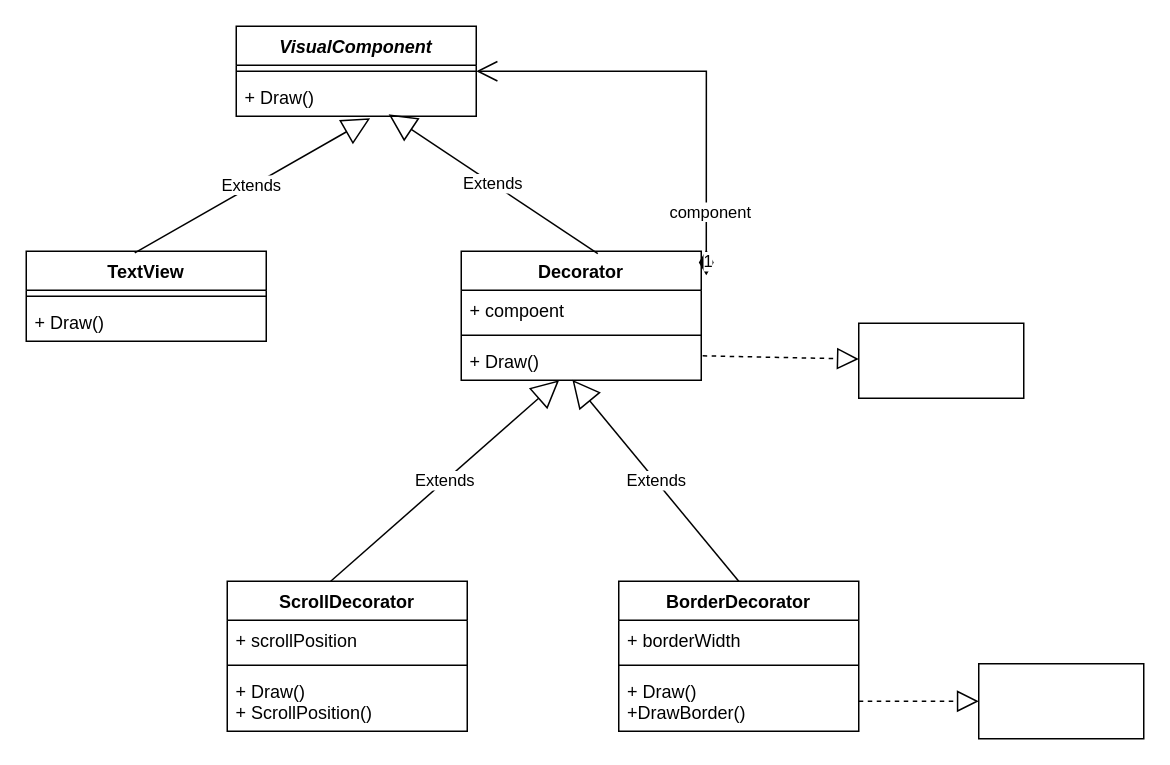
Some shapes in this 1170 by 765 pixel diagram are drawn without their labels. The shapes that lost their labels are listed below. From the top down, each one's centre as x and y in pixels, then its label:
At pixel 940 360: "componetn->Draw()".
At pixel 1060 700: "Decorator->Draw() DrawBorder();".
